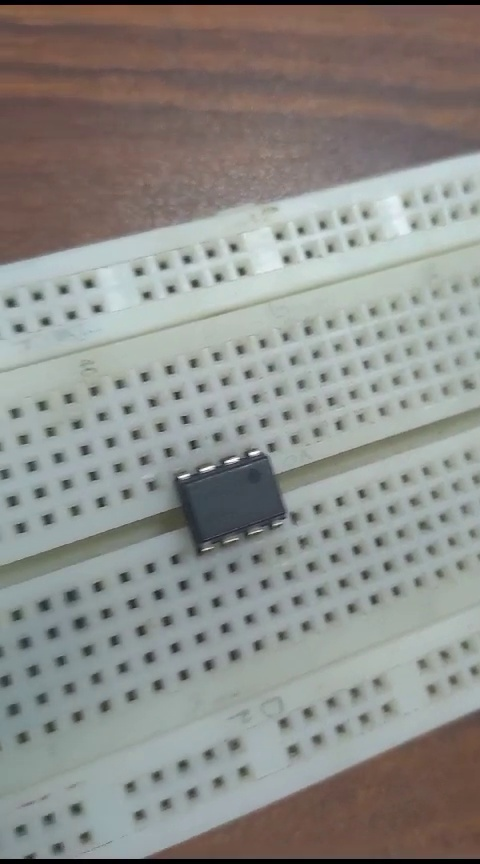IC: (155, 437, 294, 553)
